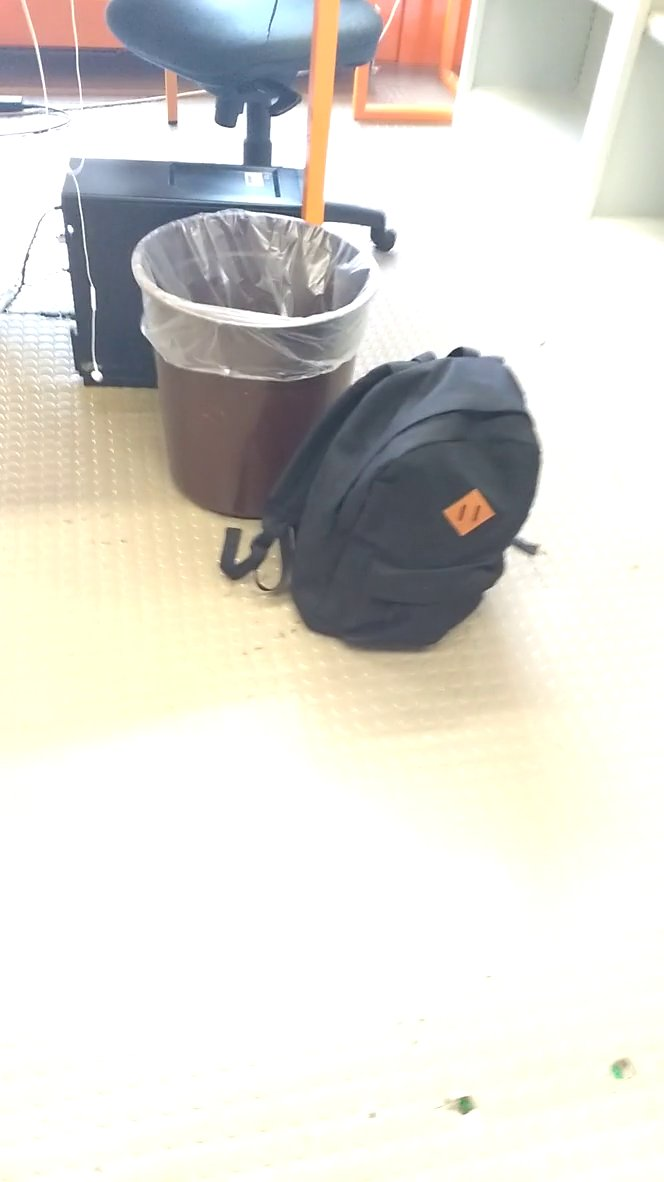bag: (214, 342, 549, 661)
bin: (125, 198, 385, 524)
chair: (101, 1, 404, 170)
